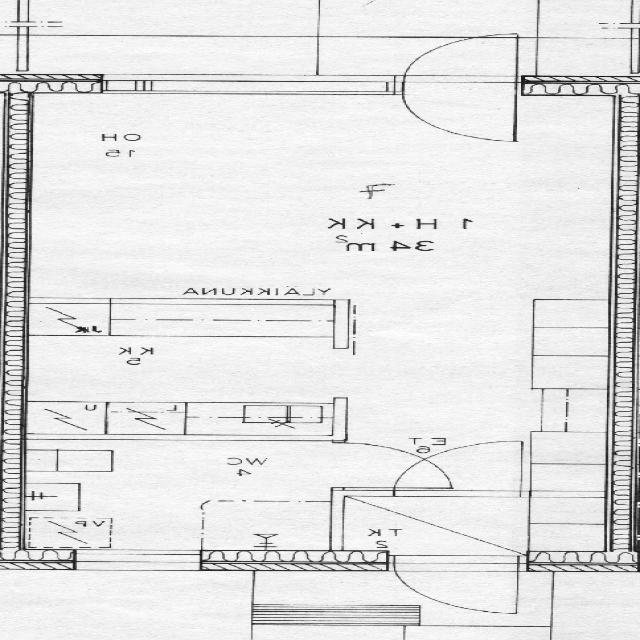door: (396, 549, 518, 620), (404, 75, 516, 141), (404, 30, 516, 96), (396, 439, 522, 497), (334, 442, 458, 486)
